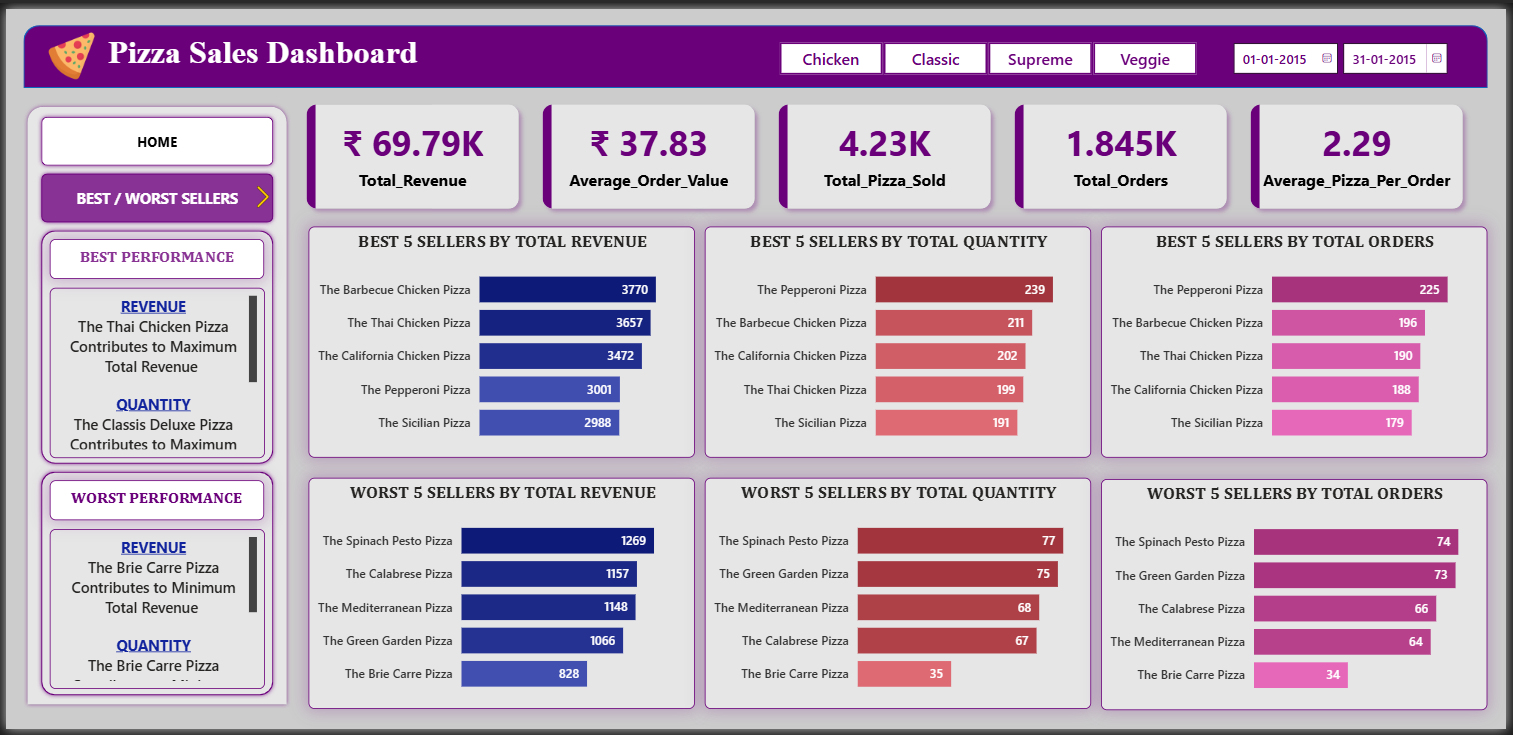

The page's visual inventory and layout, read from the dashboard file:
{"tool":"powerbi","page":{"name":"BEST / WORST SELLERS","canvas":[1500,720],"ordinal":1},"visuals":[{"type":"cardVisual","fields":{"Data":["public pizza_sales.Total_Revenue","public pizza_sales.Average_Order_Value","public pizza_sales.Total_Pizza_Sold","public pizza_sales.Total_Orders","public pizza_sales.Average_Pizza_Per_Order"]},"box":[283.3,79.2,1192.5,138.3],"z":0},{"type":"shape","box":[17.1,15.7,1464.3,62.9],"z":1000},{"type":"textbox","box":[88.8,20,336.2,53.8],"z":2000},{"type":"image","box":[31.2,22.5,68.8,48.8],"z":3000},{"type":"shape","box":[17.1,94.3,267.1,605.7],"z":4000},{"type":"shape","box":[31.2,217.5,240,241.2],"z":7000},{"type":"shape","box":[31.4,458.6,240,231.4],"z":8000},{"type":"textbox","box":[44.3,230,214.3,40],"z":9000},{"type":"textbox","box":[43.8,278.8,215,170],"z":10000},{"type":"textbox","box":[44.3,471.4,214.3,40],"z":11000},{"type":"slicer","fields":{"Values":["public pizza_sales.order_date"]},"box":[1215,26,242,42],"z":12000},{"type":"slicer","fields":{"Values":["public pizza_sales.pizza_category"]},"box":[748,26,467,42],"z":13000},{"type":"clusteredBarChart","title":"BEST 5 SELLERS BY TOTAL REVENUE","fields":{"Y":["public pizza_sales.Total_Revenue"],"Category":["public pizza_sales.pizza_name"]},"box":[302.5,217.5,386.2,231.2],"z":14000},{"type":"clusteredBarChart","title":"WORST 5 SELLERS BY TOTAL REVENUE","fields":{"Category":["public pizza_sales.pizza_name"],"Y":["public pizza_sales.Total_Revenue"]},"box":[302.2,468.9,386.7,231.1],"z":15000},{"type":"clusteredBarChart","title":"BEST 5 SELLERS BY TOTAL QUANTITY","fields":{"Category":["public pizza_sales.pizza_name"],"Y":["Sum(public pizza_sales.quantity)"]},"box":[698.8,217.5,386.2,231.2],"z":16000},{"type":"clusteredBarChart","title":"WORST 5 SELLERS BY TOTAL QUANTITY","fields":{"Category":["public pizza_sales.pizza_name"],"Y":["Sum(public pizza_sales.quantity)"]},"box":[698.8,468.8,386.2,231.2],"z":17000},{"type":"clusteredBarChart","title":"BEST 5 SELLERS BY TOTAL ORDERS","fields":{"Category":["public pizza_sales.pizza_name"],"Y":["public pizza_sales.Total_Orders"]},"box":[1095,217.5,386.2,231.2],"z":18000},{"type":"clusteredBarChart","title":"WORST 5 SELLERS BY TOTAL ORDERS","fields":{"Category":["public pizza_sales.pizza_name"],"Y":["public pizza_sales.Total_Orders"]},"box":[1095,470,386.2,231.2],"z":19000},{"type":"textbox","box":[43.3,520,215.6,160],"z":20000},{"type":"pageNavigator","box":[31.1,103.3,240,114.4],"z":20001},{"type":"image","box":[246.4,174.3,21.4,28.6],"z":20002}]}

Visuals, with their boxes in screenshot pixels (x1, y1, x2, y2), scaled from the page's 1500x720 canvas onto the 1513x735 screenshot:
cardVisual - public pizza_sales.Total_Revenue x public pizza_sales.Average_Order_Value: region(286, 81, 1489, 222)
shape: region(17, 16, 1494, 80)
textbox: region(90, 20, 429, 75)
image: region(31, 23, 101, 73)
shape: region(17, 96, 287, 715)
shape: region(31, 222, 274, 468)
shape: region(32, 468, 274, 704)
textbox: region(45, 235, 261, 276)
textbox: region(44, 285, 261, 458)
textbox: region(45, 481, 261, 522)
slicer - public pizza_sales.order_date: region(1226, 27, 1470, 69)
slicer - public pizza_sales.pizza_category: region(754, 27, 1226, 69)
"BEST 5 SELLERS BY TOTAL REVENUE" clusteredBarChart: region(305, 222, 695, 458)
"WORST 5 SELLERS BY TOTAL REVENUE" clusteredBarChart: region(305, 479, 695, 715)
"BEST 5 SELLERS BY TOTAL QUANTITY" clusteredBarChart: region(705, 222, 1094, 458)
"WORST 5 SELLERS BY TOTAL QUANTITY" clusteredBarChart: region(705, 479, 1094, 715)
"BEST 5 SELLERS BY TOTAL ORDERS" clusteredBarChart: region(1104, 222, 1494, 458)
"WORST 5 SELLERS BY TOTAL ORDERS" clusteredBarChart: region(1104, 480, 1494, 716)
textbox: region(44, 531, 261, 694)
pageNavigator: region(31, 105, 273, 222)
image: region(249, 178, 270, 207)
